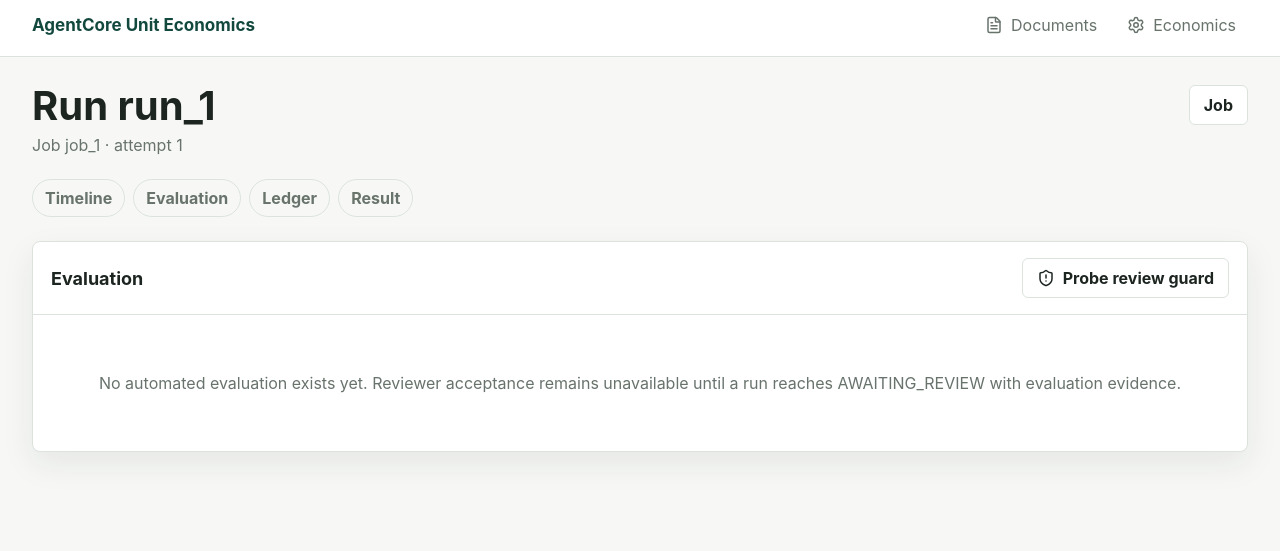
Scenario: deployed app shell › surfaces the reviewability guard instead of accepting a non-reviewable run
Click the button "Probe review guard" at coordinates (1125, 278), box [1022,258,1229,298]
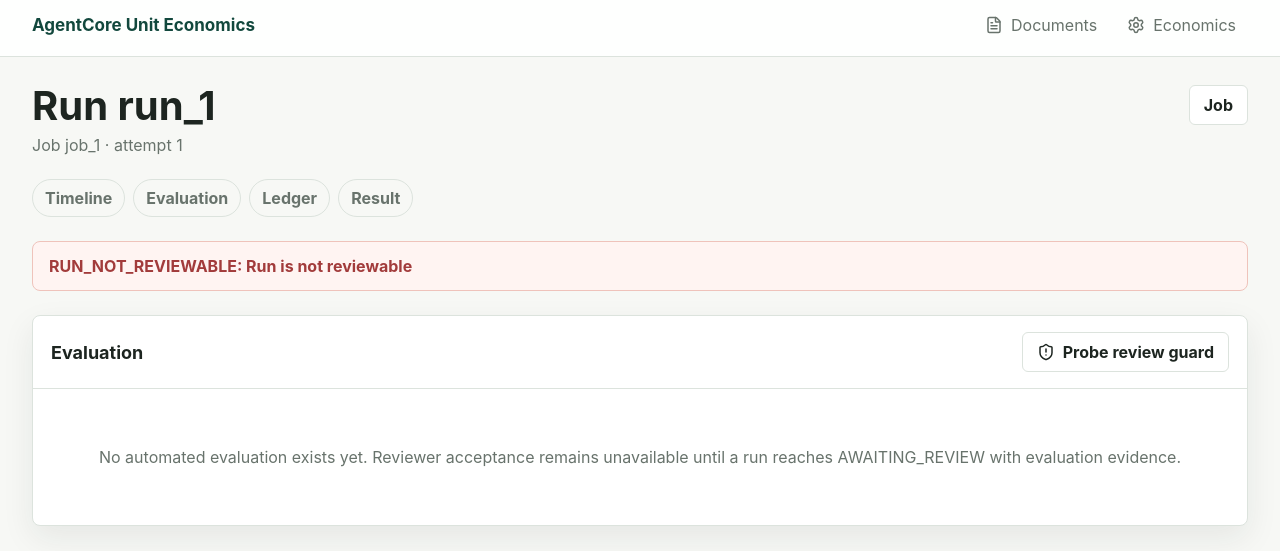
Check: the message shows "RUN_NOT_REVIEWABLE", box [49,256,412,276]
